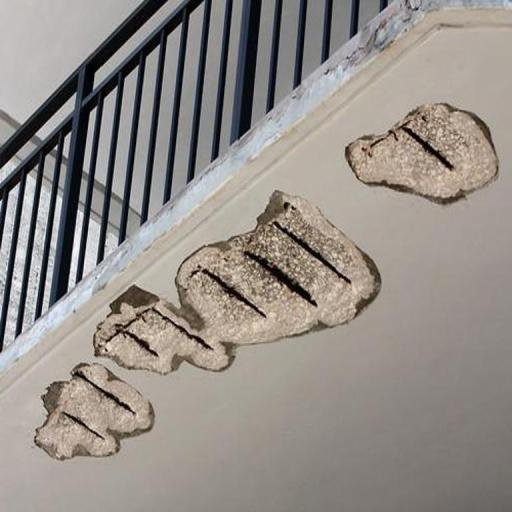spalling: (84, 183, 386, 384), (344, 93, 506, 211), (15, 358, 169, 468)
